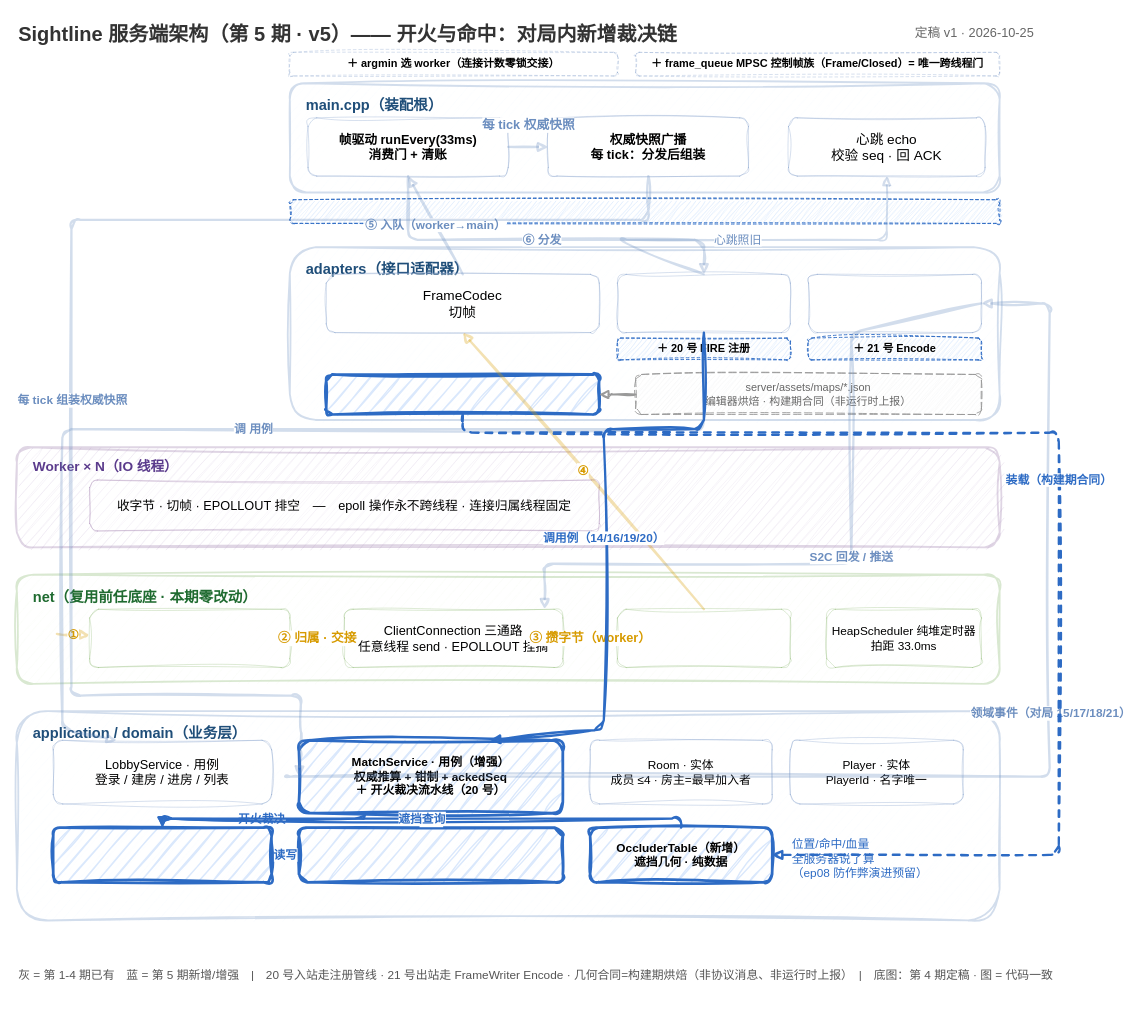
Image size: 1146x1014. Some labels were removed from this diagram. Here are the shapes that lost their labels. From the top down, the centre of each, then its label:
(x=644, y=211): ＋ 第 5 期装配注入：MapGeometryLoader → match（几何合同=构建期数据 · 拒绝运行时上报）
(x=703, y=303): MessageDispatcher 注册表 msgid→处理
(x=894, y=303): FrameWriter Encode 化 17v2 · 15 · 18
(x=462, y=394): MapGeometryLoader（新增） 几何合同 JSON → OccluderTable
(x=189, y=637): Acceptor 接客
(x=703, y=637): Buffer 攒字节
(x=162, y=854): FireJudge · 开火流水线（新增） 四道门 → hitscan 求交 → 结算扣血
(x=430, y=854): Entity · 实体（增强） 权威位+ackedSeq＋hp·弹匣·换弹·射速
